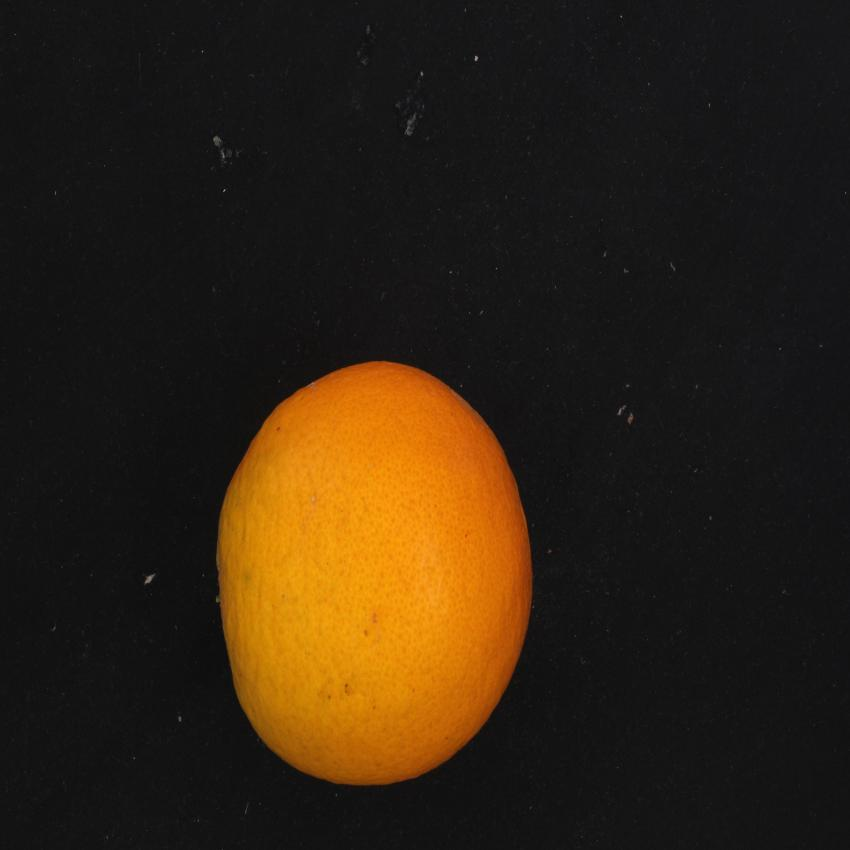Buen estado: (208, 351, 545, 800)
